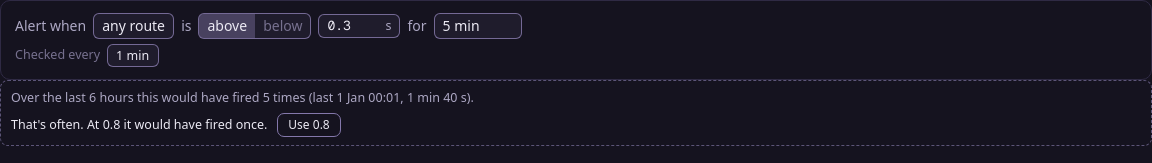
Test: the dry run line › advice offers a calmer threshold and Use applies it
The width and height of the screenshot is (1152, 163).
Expected: the text "That's often. At 0.8 it would have fired once." is shown, [11,116,267,135]
Click the button "Use 0.8".
click(309, 125)  # box [277,113,341,137]
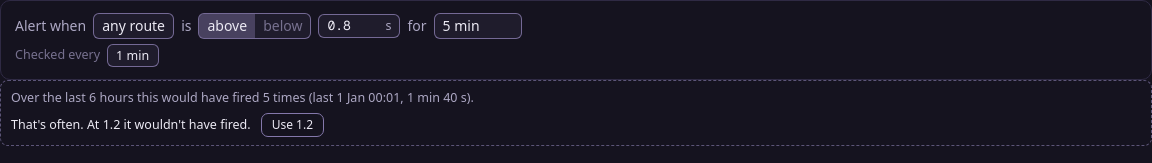
Expected: the field named "Threshold" holds "0.8", [328,15,382,37]
